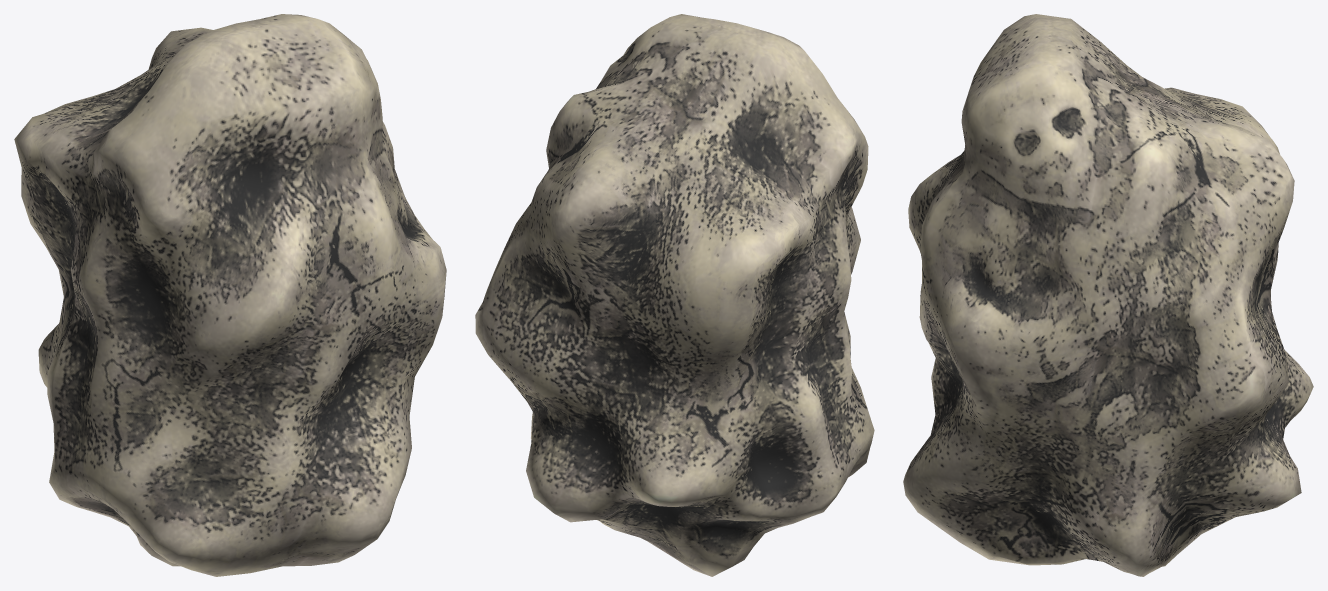
3 views of the same model, side by side, from view 1: azimuth 30°, elevation 25°; view 2: azimuth 150°, elevation 25°; view 3: azimuth 270°, elevation 25° (orthographic). The views are drawn at different scales.
Visible parts, largest first — view 1: rock6; view 2: rock6; view 3: rock6.
Part boxes in pixels (box(x1,y1,x2,y2)): rock6: box(14, 14, 446, 576); rock6: box(475, 14, 874, 576); rock6: box(903, 14, 1313, 576).
Bounding box in the file's own units: 0.1561 × 0.2468 × 0.171.
Materials: 1 (1 with a texture image).
